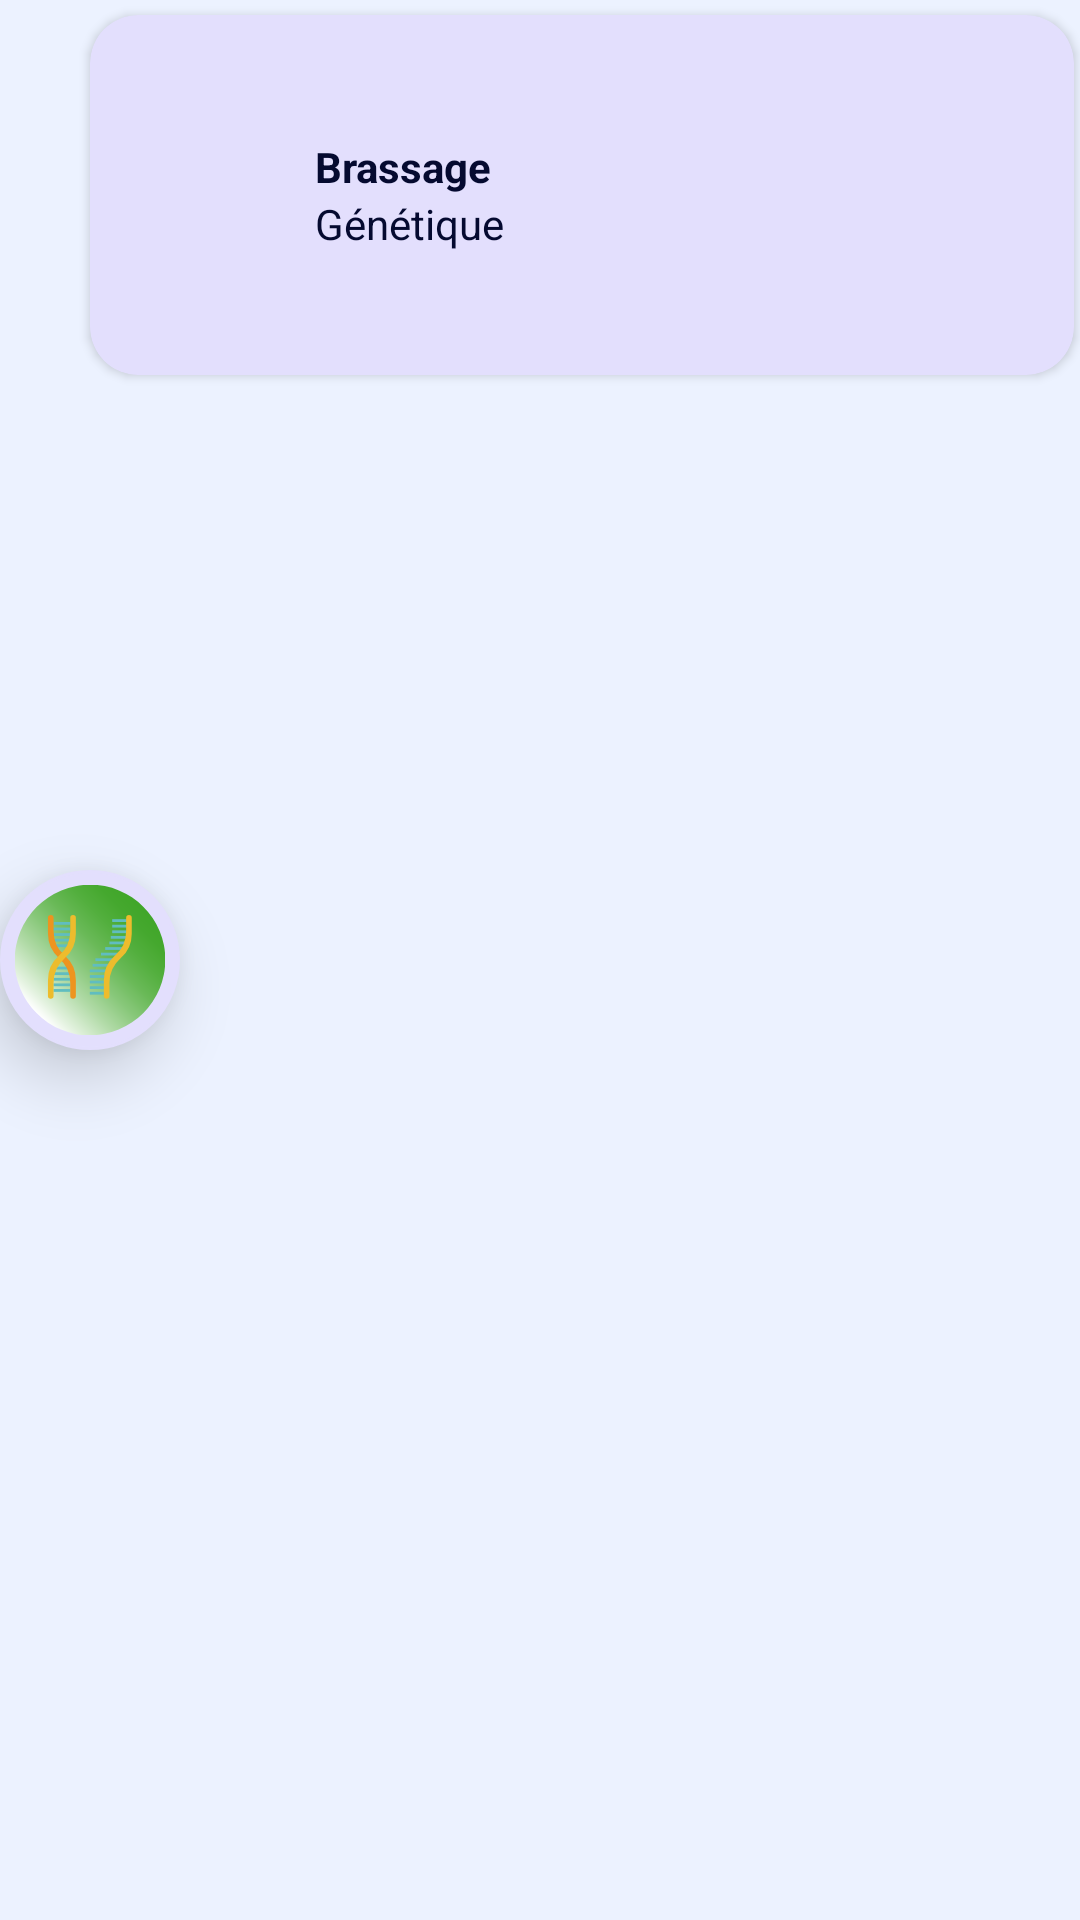

Named icons in this screenshot (1080px x 1920px) and their bounding boxes, (x1,y1,x2,y2):
Icôn brassage: (4,885,165,1046)
